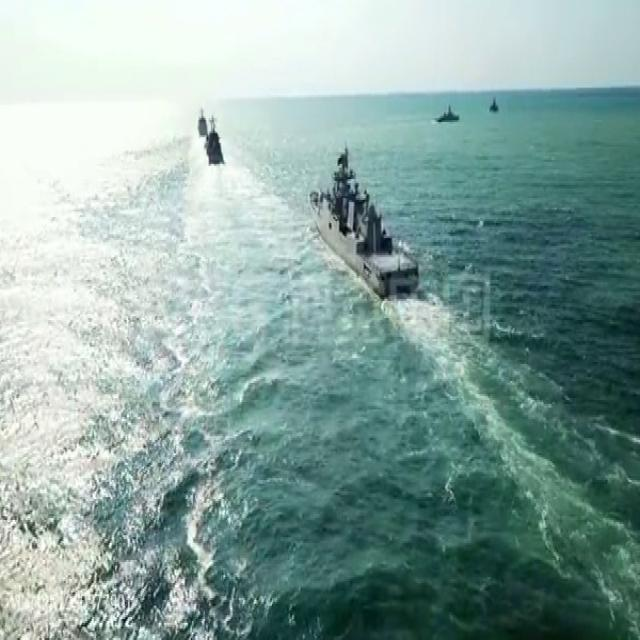navalvessels: (307, 139, 419, 301), (205, 112, 225, 165), (192, 100, 209, 136), (433, 104, 460, 125), (489, 96, 499, 116)
